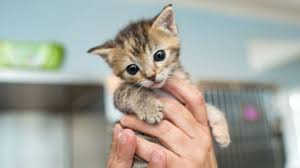kedi: (68, 5, 245, 164)
